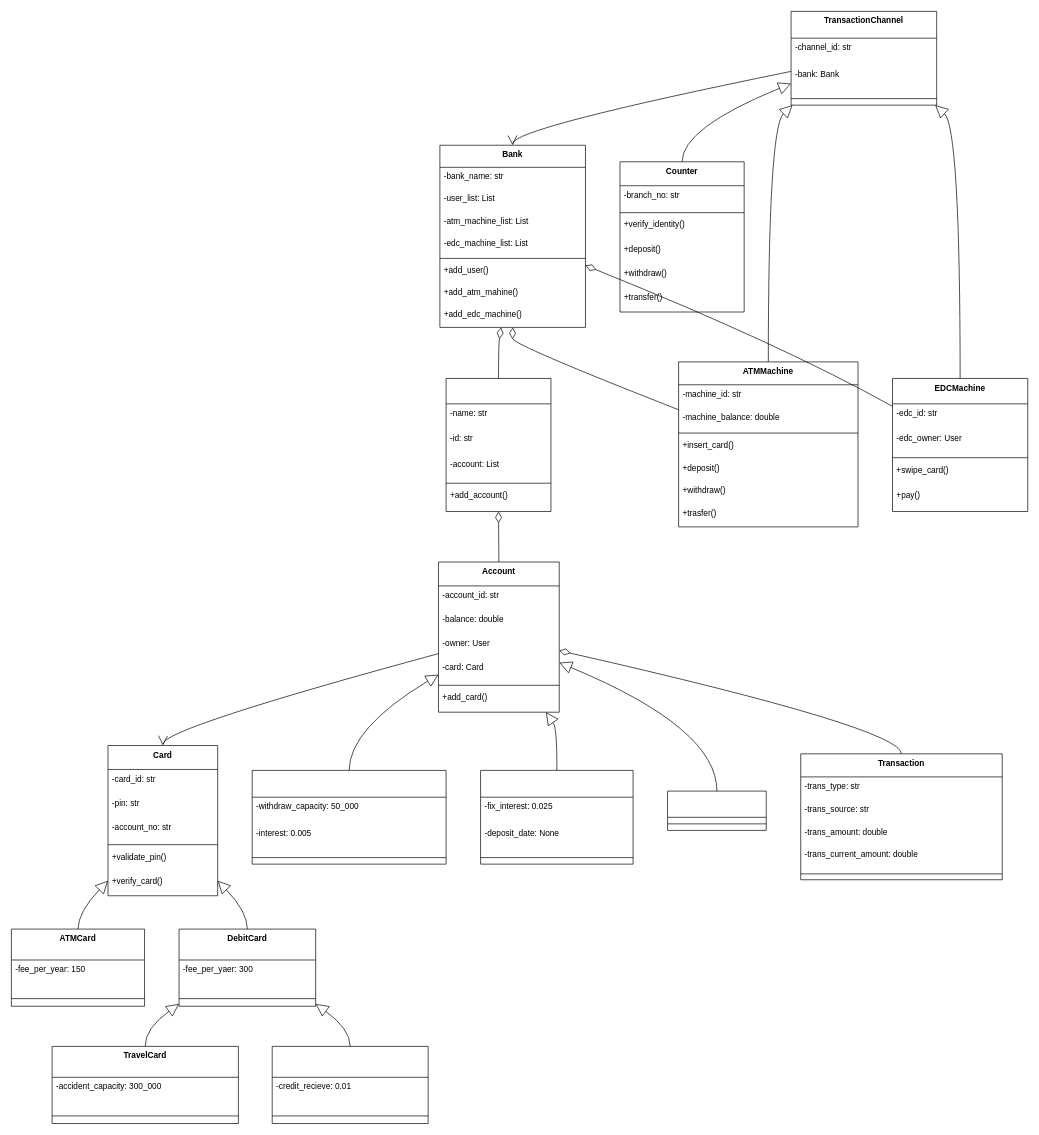
The diagram is 1039 pixels wide and 1135 high, and some of its shapes have lost their labels. The box of each missing label's shape, as (x1, y1, x2, y2) in pixels:
CurrentAccount: (667, 790, 766, 830)
FixedAccount: (480, 770, 633, 864)
SavingAccount: (252, 770, 446, 864)
ShoppingCard: (272, 1046, 428, 1124)
User: (445, 378, 551, 511)
